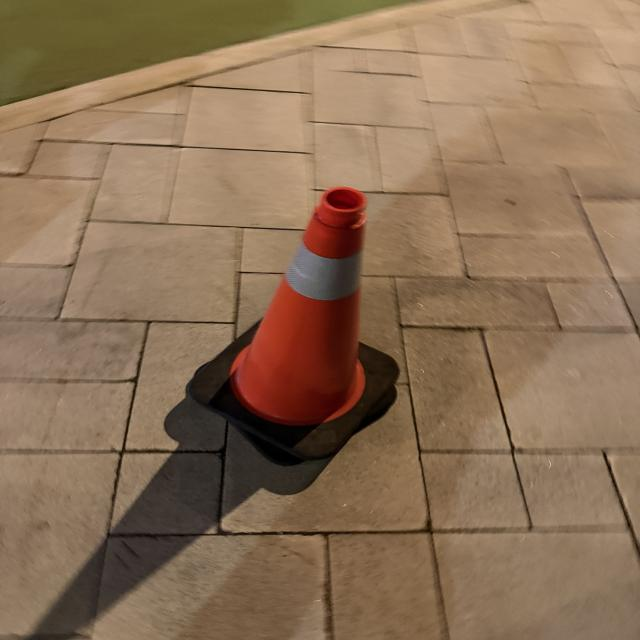Traffic Cone: (185, 188, 409, 464)
